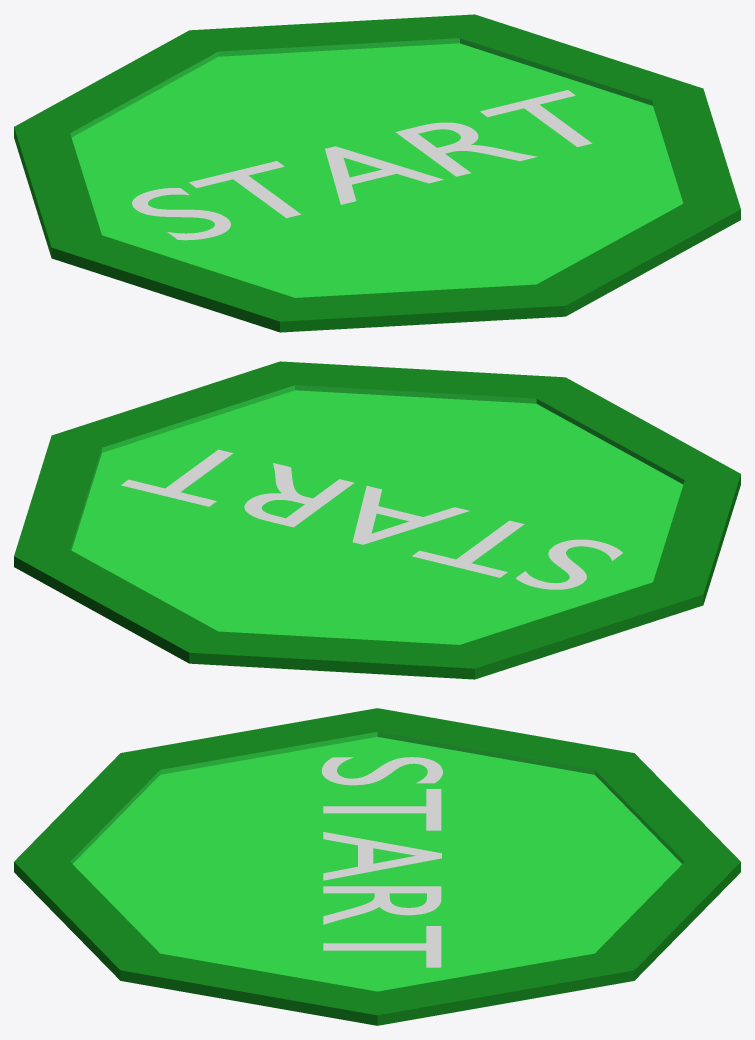
The model's file is startboxC.fbx.
The picture shows the model from 3 angles, top to bottom: view 1: azimuth 30°, elevation 25°; view 2: azimuth 150°, elevation 25°; view 3: azimuth 270°, elevation 25°; orthographic projection. The views are drawn at different scales.
Visible parts, largest first — view 1: 円, start; view 2: 円, start; view 3: 円, start.
Part boxes in pixels (x1,y1,x2,y2): 円: (14, 14, 740, 332); start: (132, 90, 592, 240); 円: (14, 361, 740, 679); start: (121, 449, 622, 589); 円: (14, 708, 740, 1025); start: (321, 757, 442, 967).
Bounding box in the file's own units: 503 × 8.04 × 503.
